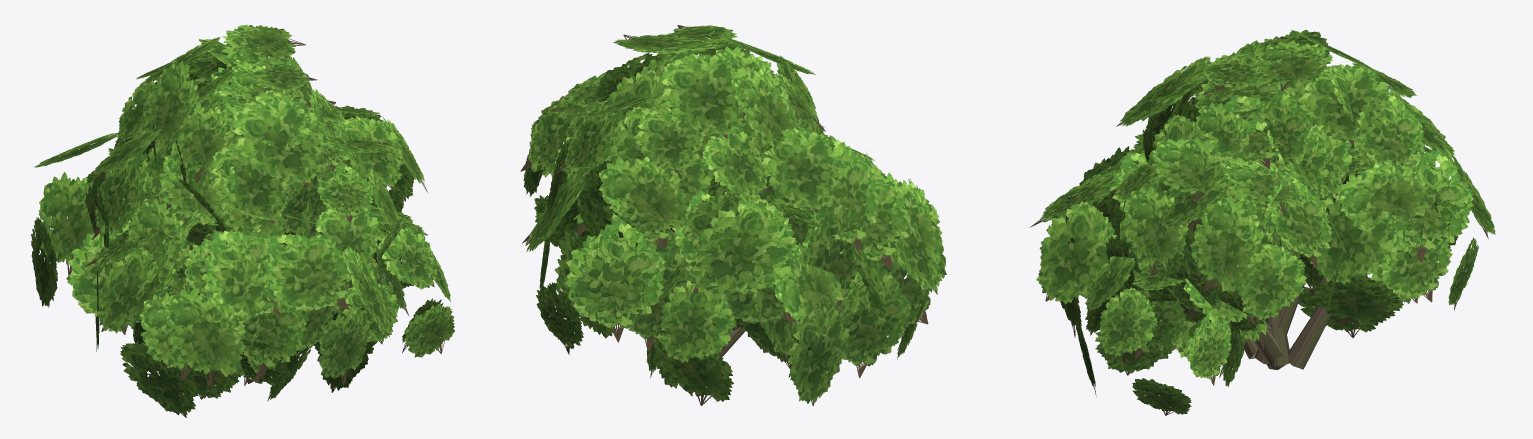
Rendered from dense-shrub.glb.
The picture shows the model from 3 angles, left to right: view 1: azimuth 30°, elevation 25°; view 2: azimuth 150°, elevation 25°; view 3: azimuth 270°, elevation 25°; orthographic projection. The views are drawn at different scales.
Visible parts, largest first — view 1: Shrub-dense-shrub; view 2: Shrub-dense-shrub; view 3: Shrub-dense-shrub.
Boxes of the visible parts, left/top/right/bottom form: Shrub-dense-shrub: left=31, top=24, right=454, bottom=417; Shrub-dense-shrub: left=520, top=25, right=946, bottom=406; Shrub-dense-shrub: left=1029, top=29, right=1495, bottom=415.
Bounding box in the file's own units: 1.75 × 1.5 × 1.96.
Materials: 1 (1 with a texture image).
